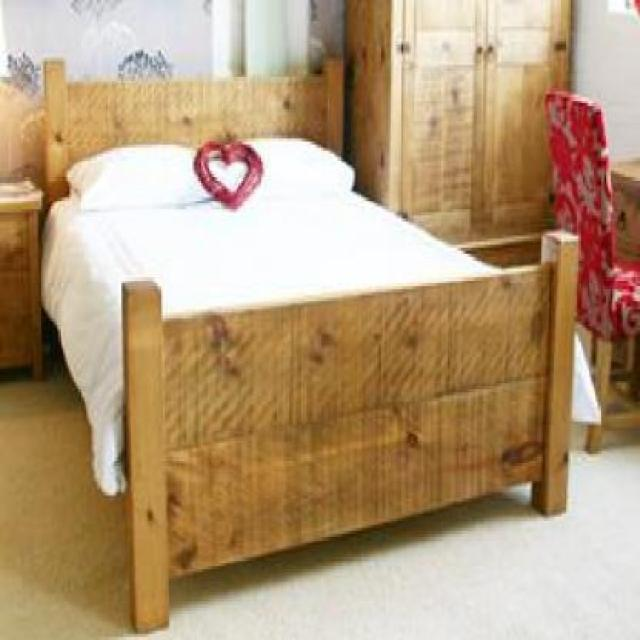Bed: (39, 50, 586, 640)
